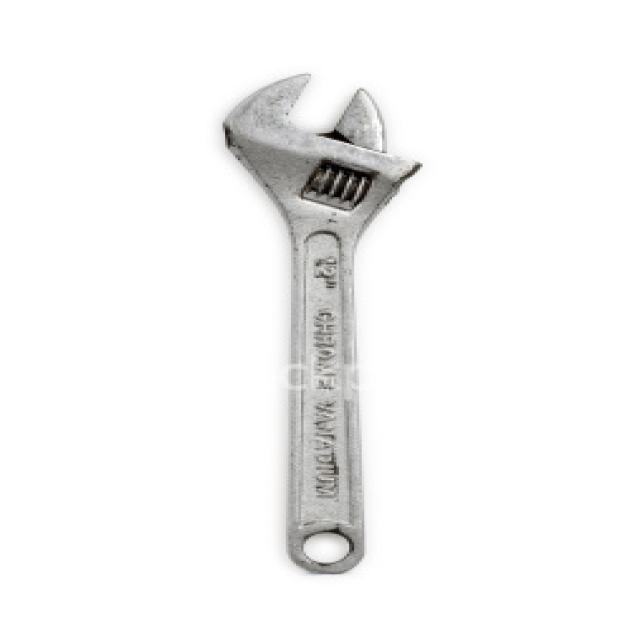wrench: (179, 47, 483, 606)
